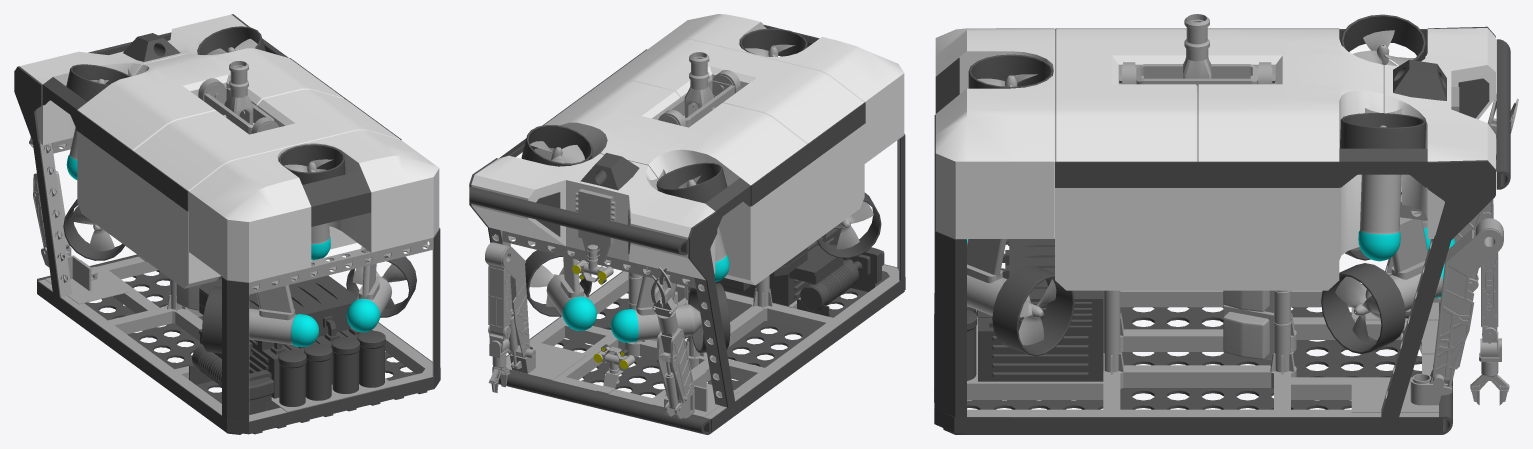
File: ROV_pos.fbx
3 views of the same model, side by side, from view 1: azimuth 30°, elevation 25°; view 2: azimuth 150°, elevation 25°; view 3: azimuth 270°, elevation 25° (orthographic). The views are drawn at different scales.
Visible parts, largest first — view 1: Shell, body (×6), Paddle_Blade (×2), hook, hook1, robotic_arm_5, Arm_Three, hook2; view 2: Shell, body (×6), robotic_arm_5, robotic_arm_4, Paddle_Blade (×3), robotic_arm_3, hook, hook1, camera1 (×2), hook2, Arm_Three, robotic_arm_0 (+1 smaller); view 3: Shell, body (×5), robotic_arm_3, Paddle_Blade (×3), hook1, robotic_arm_4, hook, robotic_arm_0, hook2, robotic_arm_5.
Boxes of the visible parts, bbox=[...] form: Shell: bbox=[14, 14, 440, 434]; body (×6): bbox=[63, 26, 416, 353]; Paddle_Blade (×2): bbox=[72, 205, 406, 308]; hook: bbox=[224, 61, 253, 124]; hook1: bbox=[204, 88, 273, 134]; robotic_arm_5: bbox=[29, 140, 69, 253]; Arm_Three: bbox=[57, 250, 97, 290]; hook2: bbox=[198, 78, 278, 133]; Shell: bbox=[469, 14, 905, 434]; body (×6): bbox=[521, 28, 881, 352]; robotic_arm_5: bbox=[652, 304, 694, 403]; robotic_arm_4: bbox=[486, 242, 510, 336]; Paddle_Blade (×3): bbox=[529, 141, 873, 307]; robotic_arm_3: bbox=[485, 242, 535, 358]; hook: bbox=[684, 52, 713, 117]; hook1: bbox=[663, 80, 734, 127]; camera1 (×2): bbox=[572, 260, 635, 369]; hook2: bbox=[658, 70, 740, 126]; Arm_Three: bbox=[675, 371, 707, 418]; robotic_arm_0: bbox=[510, 345, 535, 373]; Shell: bbox=[934, 26, 1510, 434]; body (×5): bbox=[967, 14, 1444, 356]; robotic_arm_3: bbox=[1433, 218, 1503, 388]; Paddle_Blade (×3): bbox=[1018, 30, 1414, 345]; hook1: bbox=[1136, 64, 1257, 85]; robotic_arm_4: bbox=[1475, 218, 1503, 330]; hook: bbox=[1183, 14, 1211, 78]; robotic_arm_0: bbox=[1410, 370, 1452, 405]; hook2: bbox=[1119, 62, 1275, 84]; robotic_arm_5: bbox=[1480, 327, 1499, 357].
Size of the model in its own units: 56 by 68 by 103.
